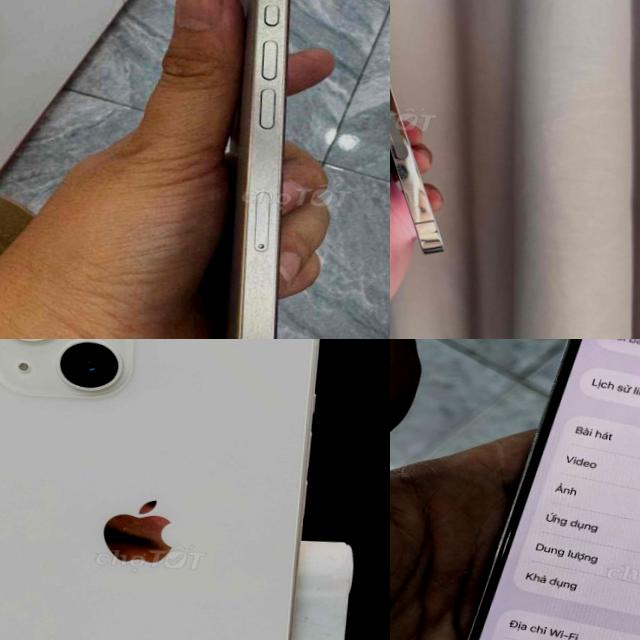gen_12_13: (0, 339, 323, 640)
gen_14: (437, 339, 640, 640), (390, 0, 476, 269)
gen_15: (167, 0, 342, 339)
